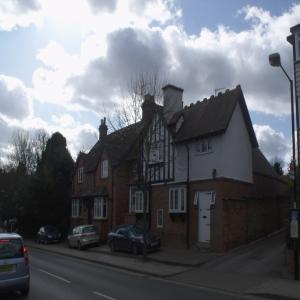Vehicle-registration-plate: (1, 267, 17, 273)
